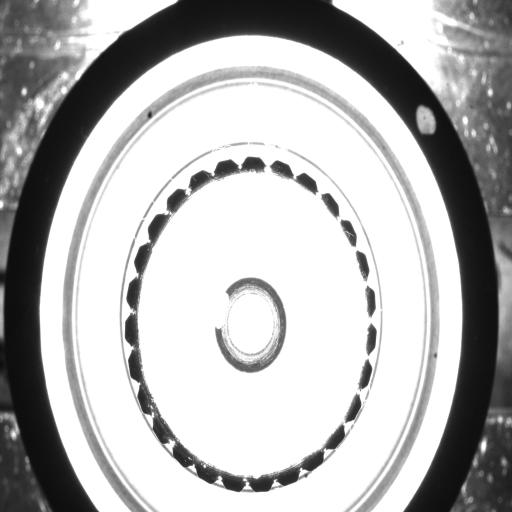gear: (123, 158, 379, 488)
